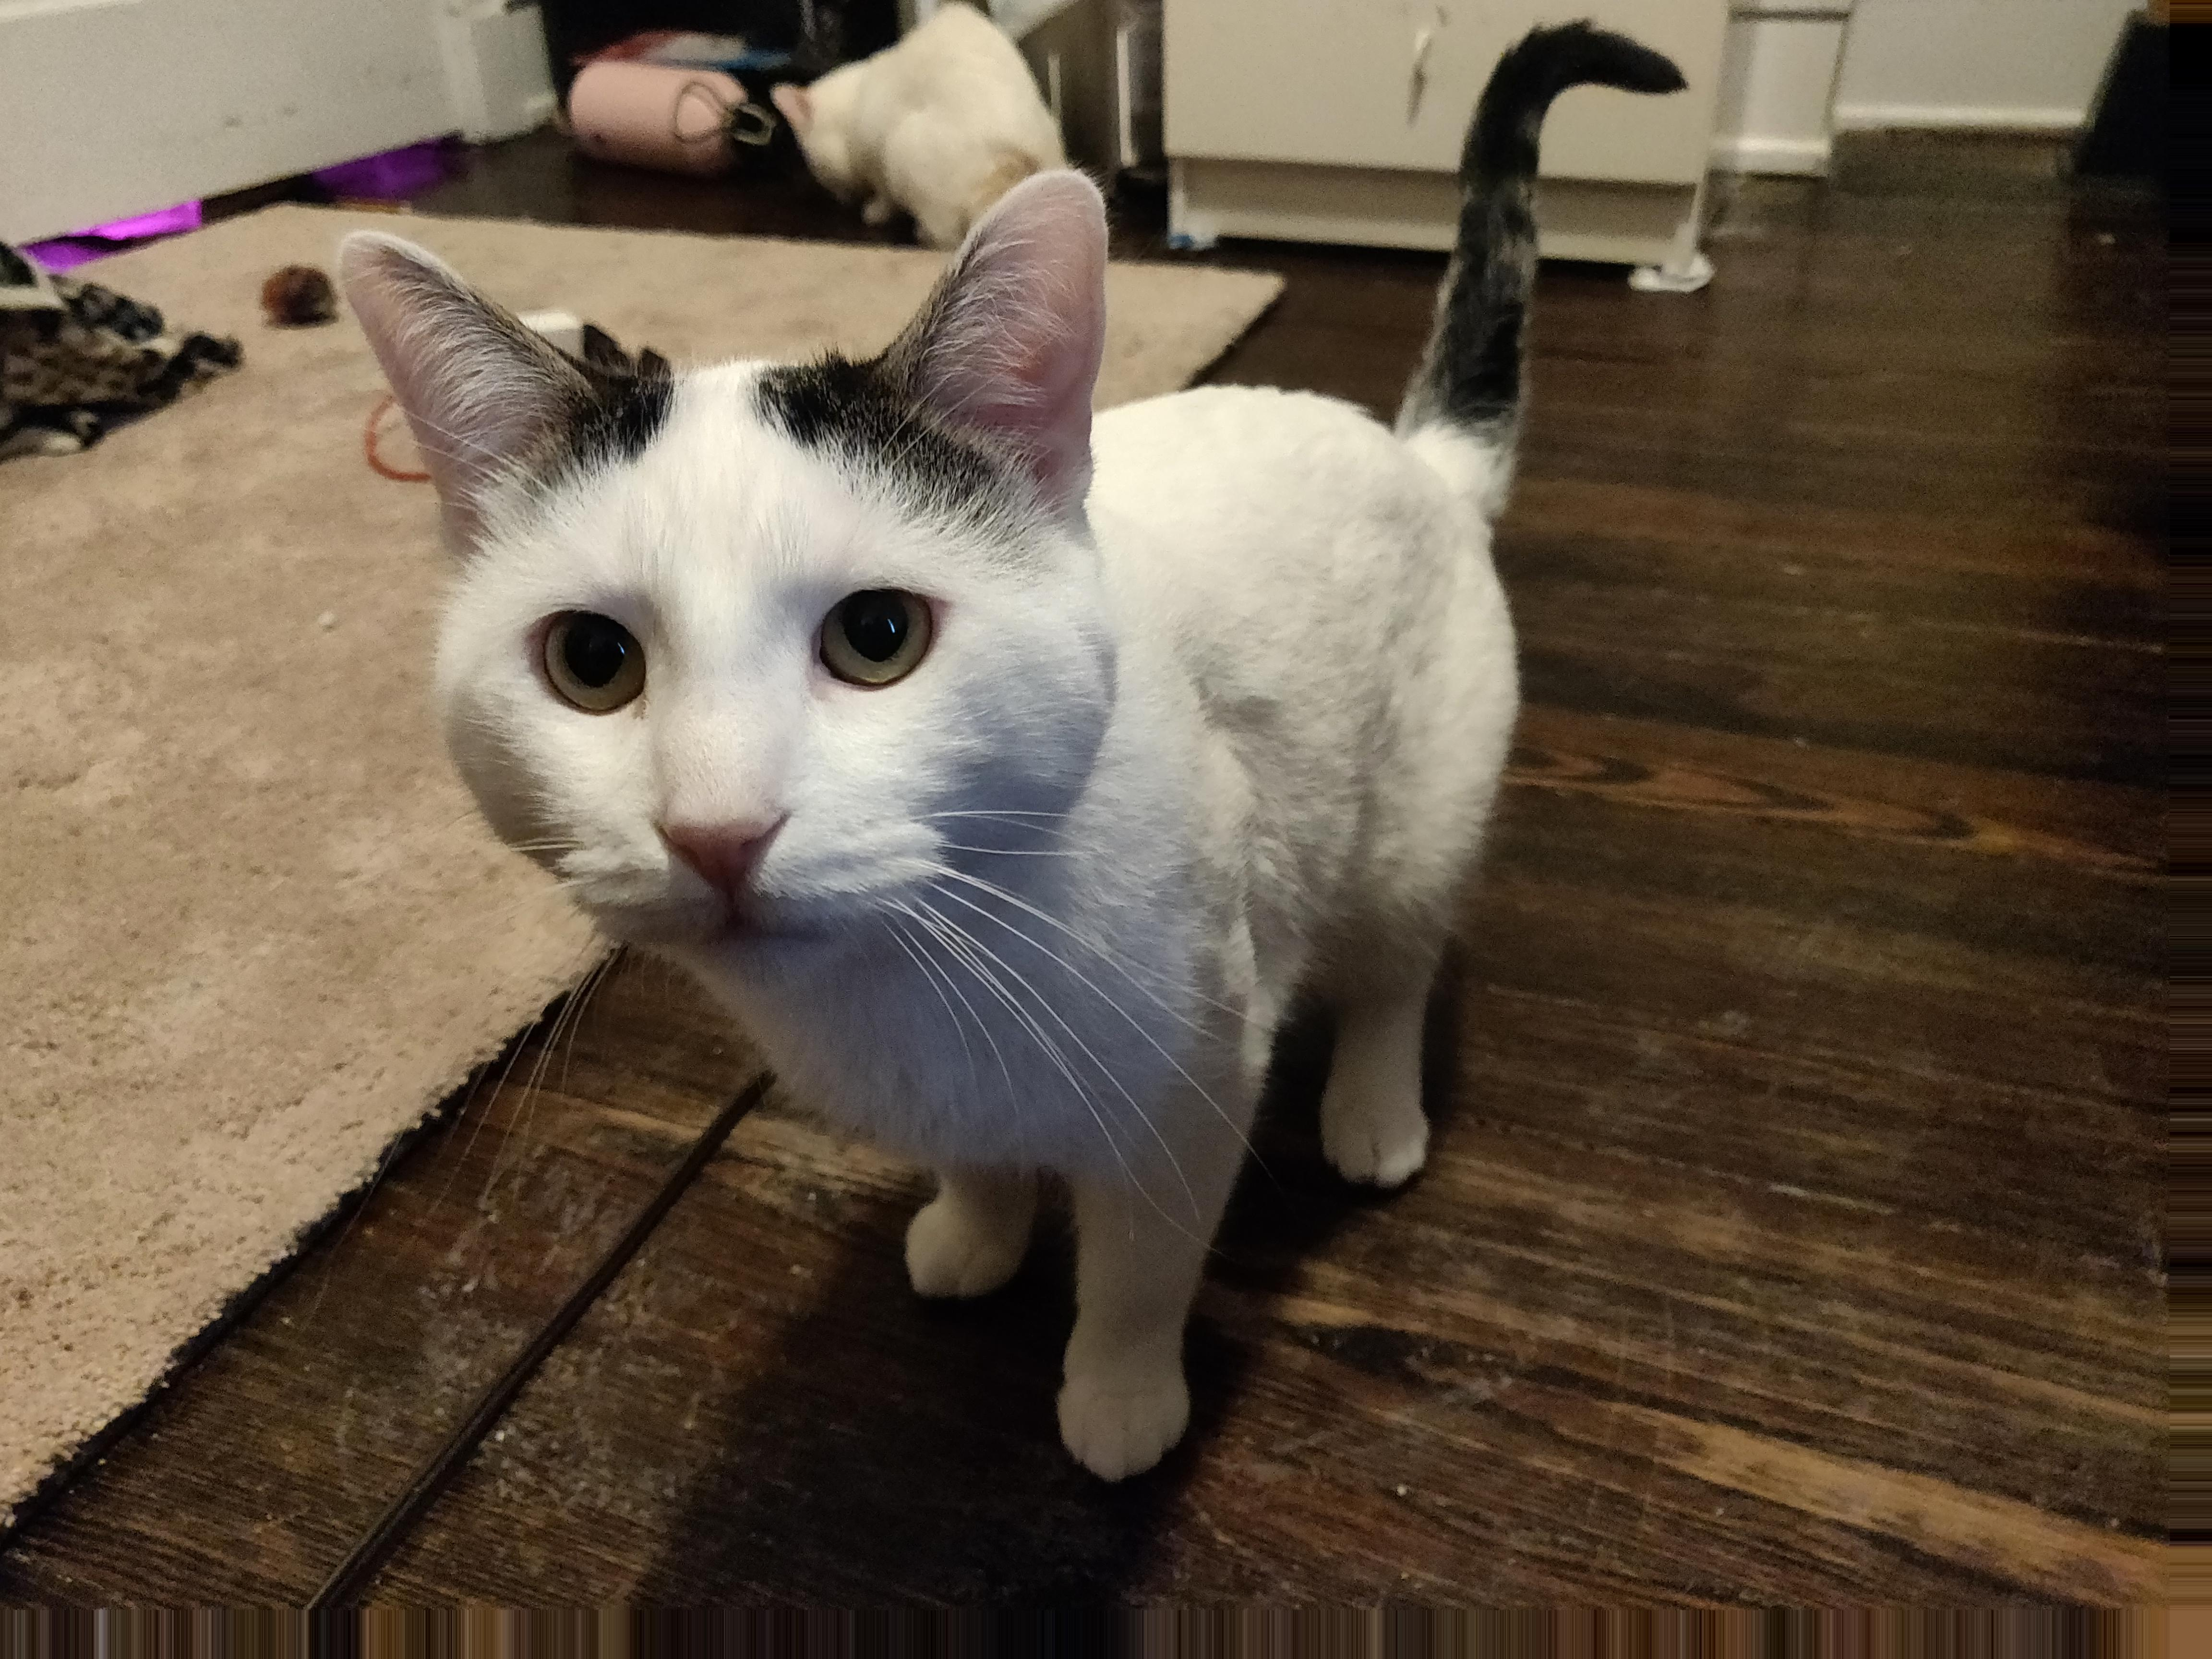cat: (331, 168, 1536, 1455)
